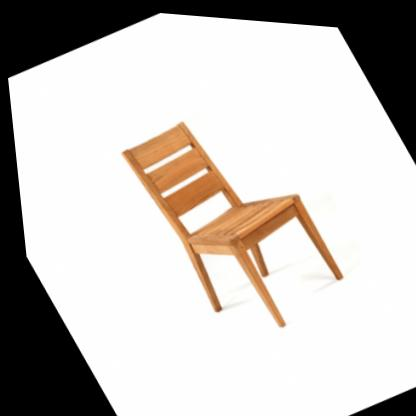Chair: (110, 83, 356, 354)
